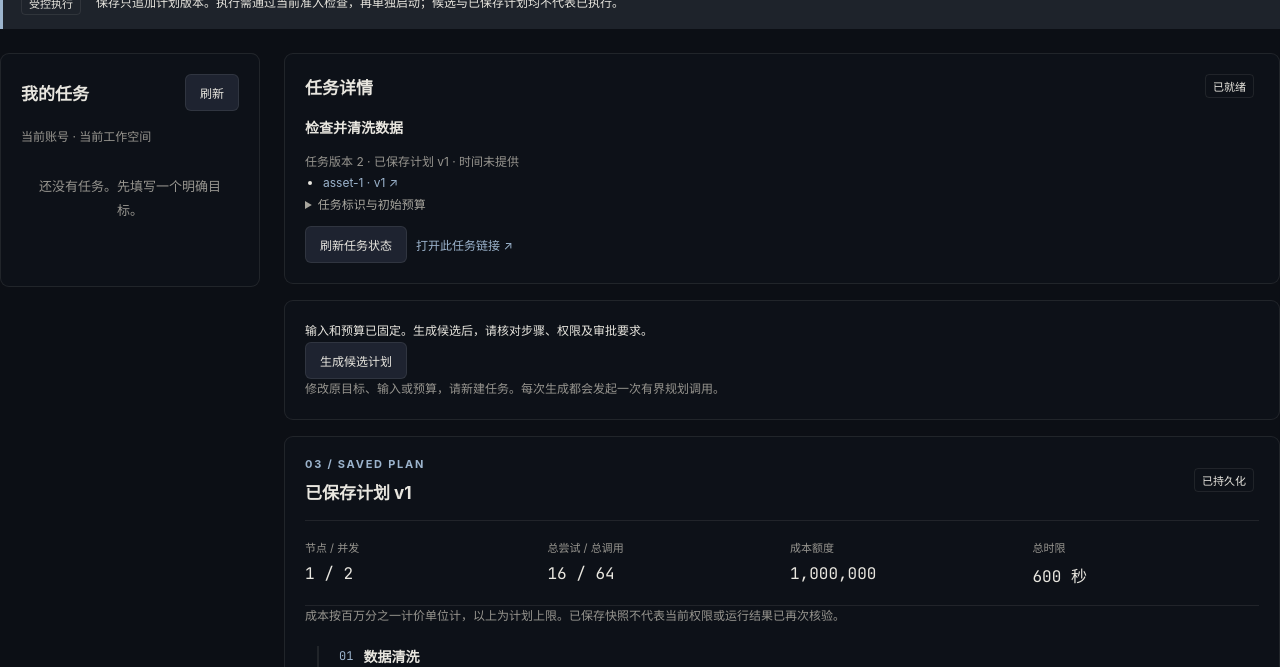
Scenario: governed task execution controls › preserves an unsaved candidate during refresh and blocks it after an externally advanced task version
The image size is (1280, 667).
(page scrolled)
Click the button "生成候选计划" at (356, 360), box [305, 342, 407, 379]
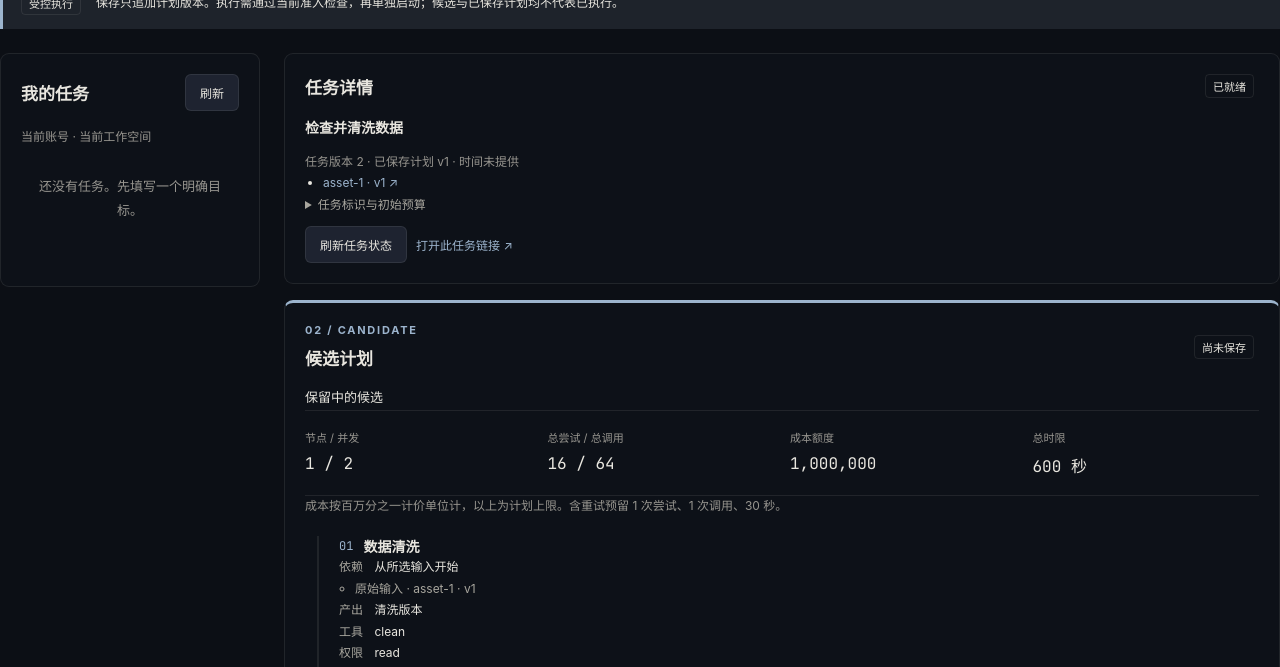
Now the text "保留中的候选" is shown, box [305, 389, 383, 405]
Click the button "刷新任务状态" at (356, 245), box [305, 226, 407, 263]
(page scrolled)
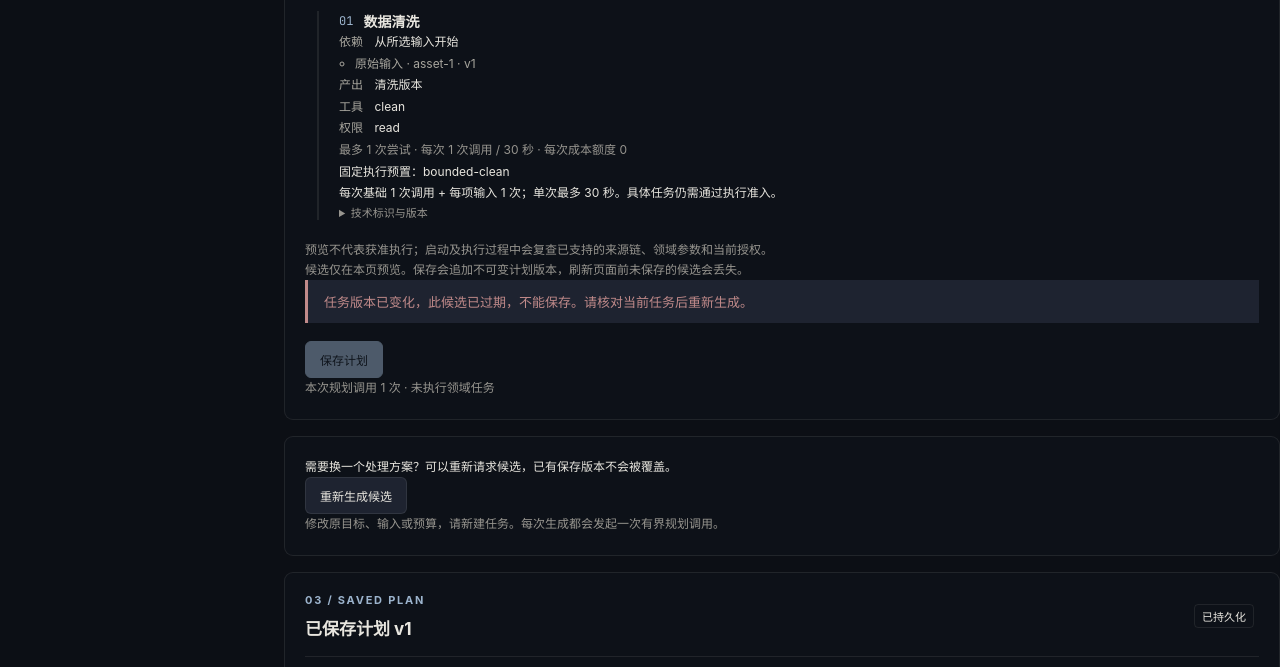
Expected: the button "保存计划" is disabled, [305, 342, 383, 378]
Now the text "此候选已过期" is shown, box [324, 294, 753, 310]
